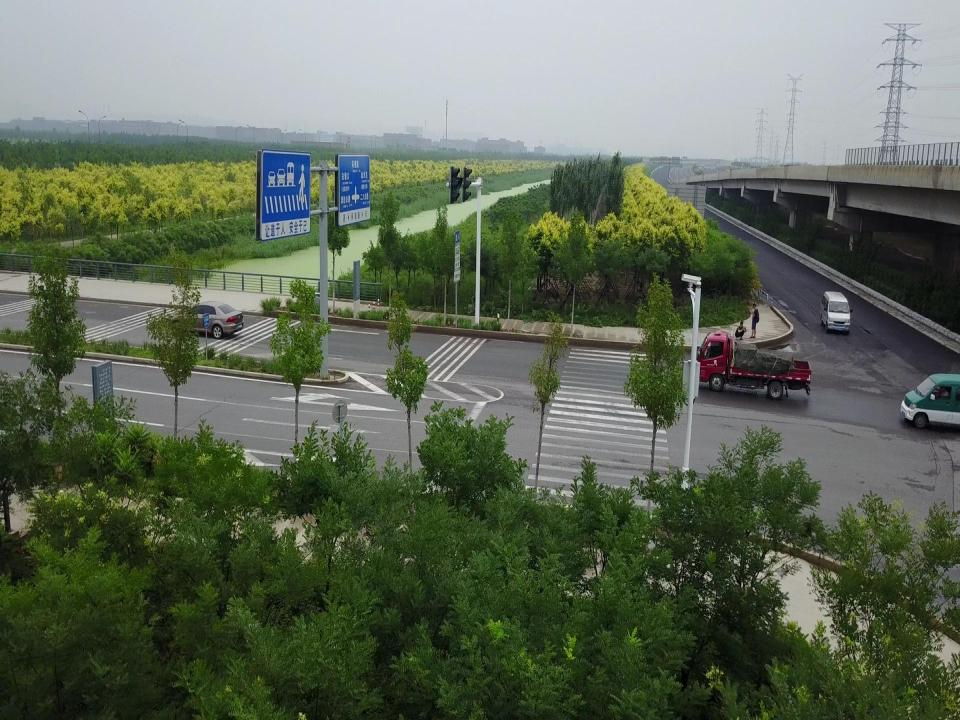car: (169, 300, 243, 341)
truck: (692, 330, 812, 401)
van: (900, 373, 960, 433), (820, 290, 852, 335)
